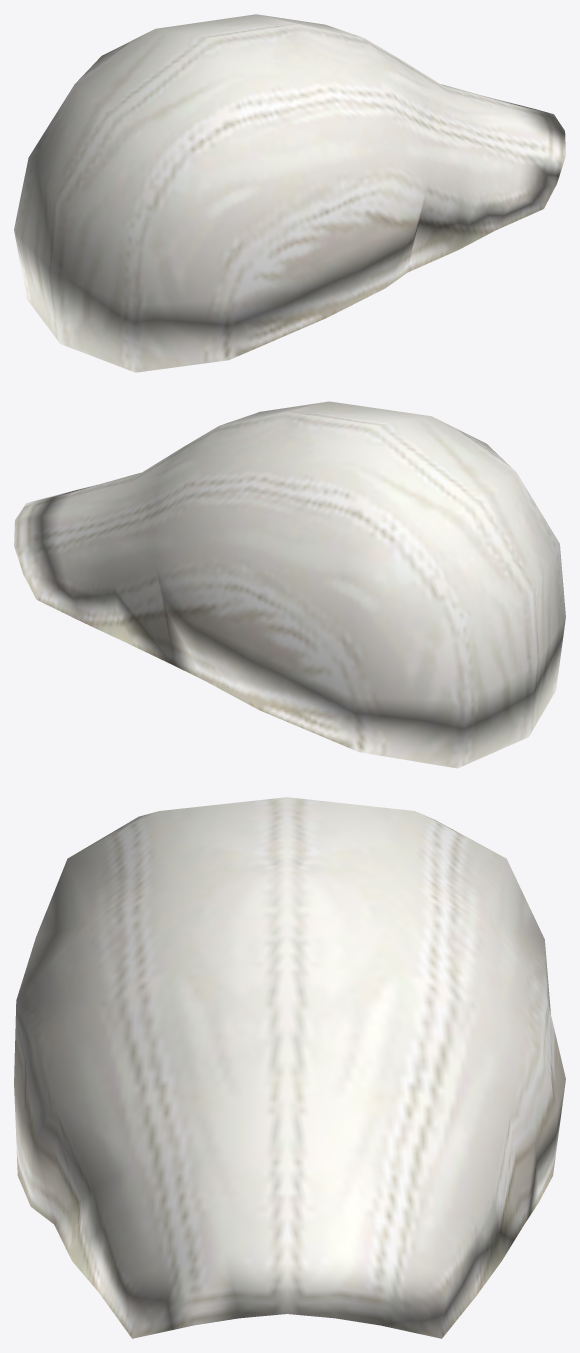
The model's file is hat_0400031.FBX.
3 renders of one model, top to bottom at view 1: azimuth 30°, elevation 25°; view 2: azimuth 150°, elevation 25°; view 3: azimuth 270°, elevation 25°, orthographic. The views are drawn at different scales.
Visible parts, largest first — view 1: hat_0400031; view 2: hat_0400031; view 3: hat_0400031.
Boxes of the visible parts, bbox=[...] form: hat_0400031: bbox=[14, 14, 565, 372]; hat_0400031: bbox=[14, 401, 565, 768]; hat_0400031: bbox=[14, 797, 565, 1338].
Size of the model in its own units: 37.83 by 19.4 by 22.83.
